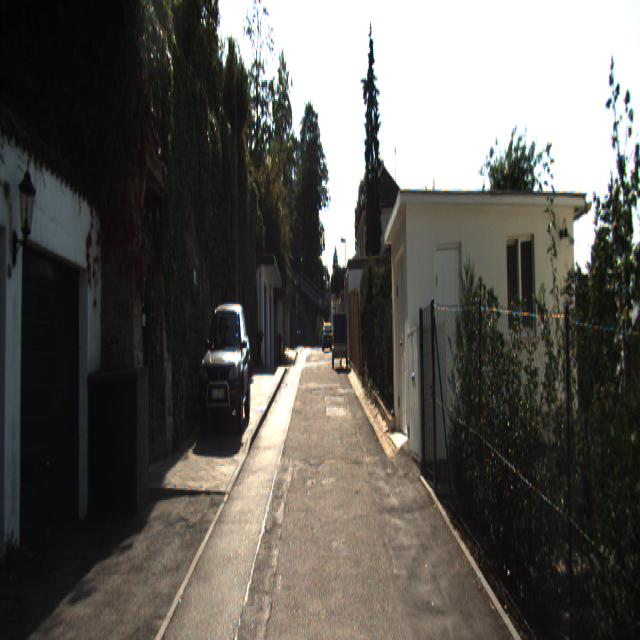Car: (197, 303, 254, 431), (332, 309, 349, 369)
